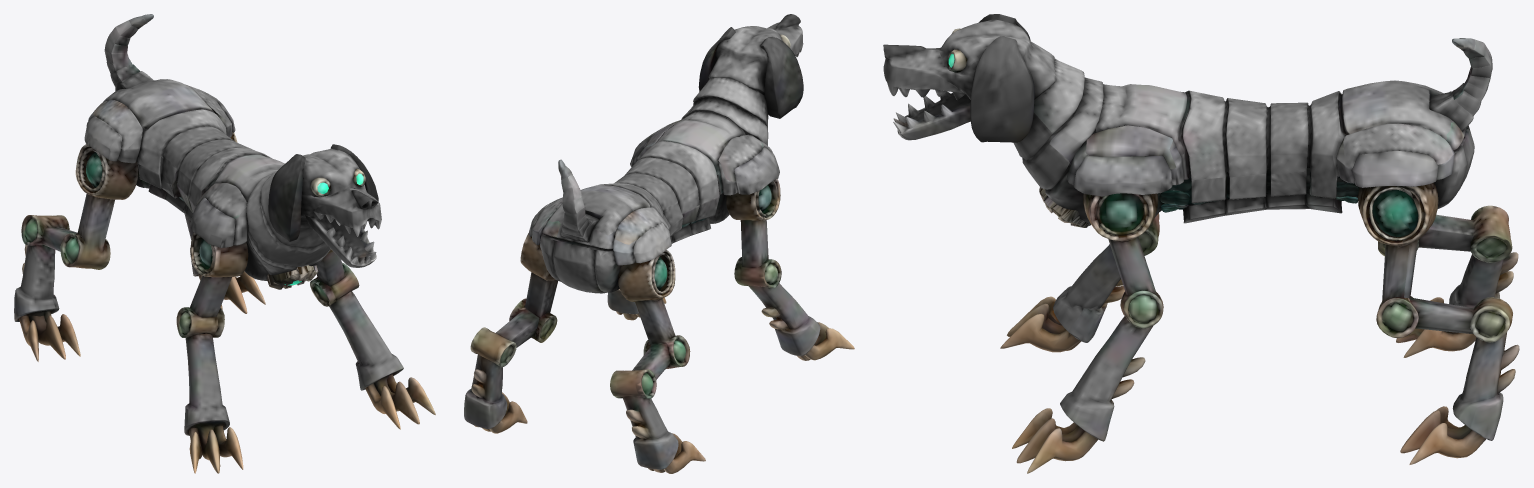
The model's file is MZ4250 - Doggy Steel Defender_new.glb.
3 renders of one model, left to right at view 1: azimuth 30°, elevation 25°; view 2: azimuth 150°, elevation 25°; view 3: azimuth 270°, elevation 25°, orthographic. The views are drawn at different scales.
Visible parts, largest first — view 1: Cylinder.002; view 2: Cylinder.002; view 3: Cylinder.002.
Boxes of the visible parts, x1,y1,x2,y2 form: Cylinder.002: (14, 14, 435, 473); Cylinder.002: (464, 14, 854, 473); Cylinder.002: (883, 14, 1519, 473).
Size of the model in its own units: 39.05 by 47.13 by 71.65.
Materials: 1 (1 with a texture image).
